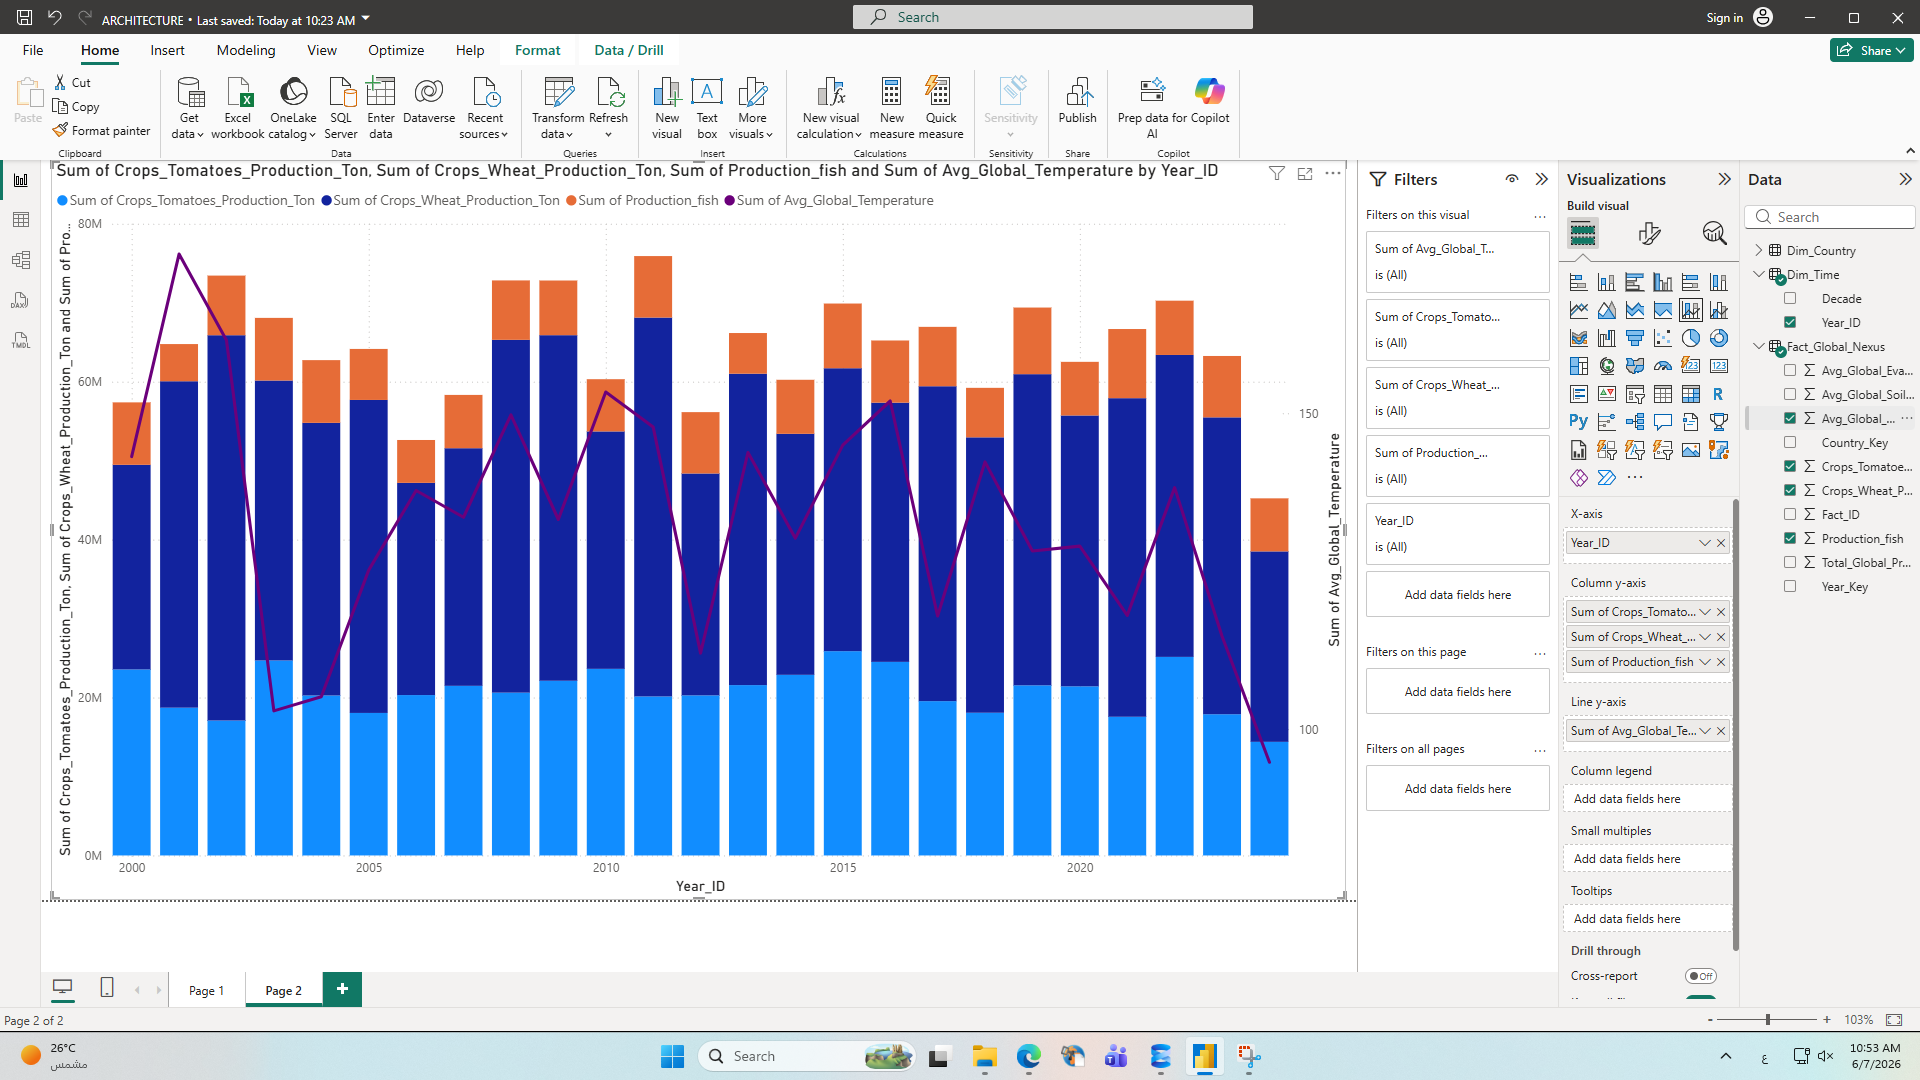

What the dashboard file says about the page in this screenshot:
{"tool":"powerbi","page":{"name":"Page 2","canvas":[1280,720],"ordinal":1},"visuals":[{"type":"lineStackedColumnComboChart","fields":{"Category":["Dim_Time.Year_ID"],"Y":["Sum(Fact_Global_Nexus.Crops_Tomatoes_Production_Ton)","Sum(Fact_Global_Nexus.Crops_Wheat_Production_Ton)","Sum(Fact_Global_Nexus.Production_MT)"],"Y2":["Sum(Fact_Global_Nexus.Avg_Global_Temperature)"]},"box":[9.7,0,1259.6,719.8],"z":0}]}

Visuals, with their boxes on the page's 1280x720 design canvas (x1, y1, x2, y2). These are canvas units, not pixel positions in the 1920x1080 screenshot, which may show the page scaled, cropped or inside an application window:
lineStackedColumnComboChart - Dim_Time.Year_ID x Sum(Fact_Global_Nexus.Crops_Tomatoes_Production_Ton): Rect(10, 0, 1269, 720)
